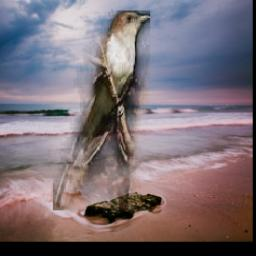Cuckoo: (53, 10, 150, 210)
